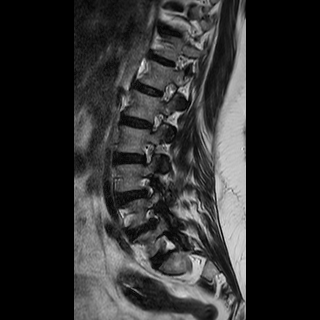RFS0: (134, 136, 161, 172), (149, 232, 179, 261), (144, 106, 168, 136)
RFS1: (134, 170, 162, 201)
RFS2: (137, 202, 164, 231)
